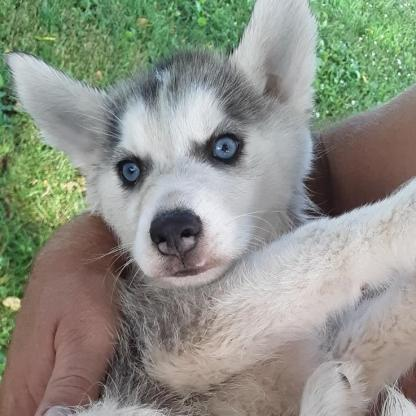husky: (9, 4, 416, 416)
